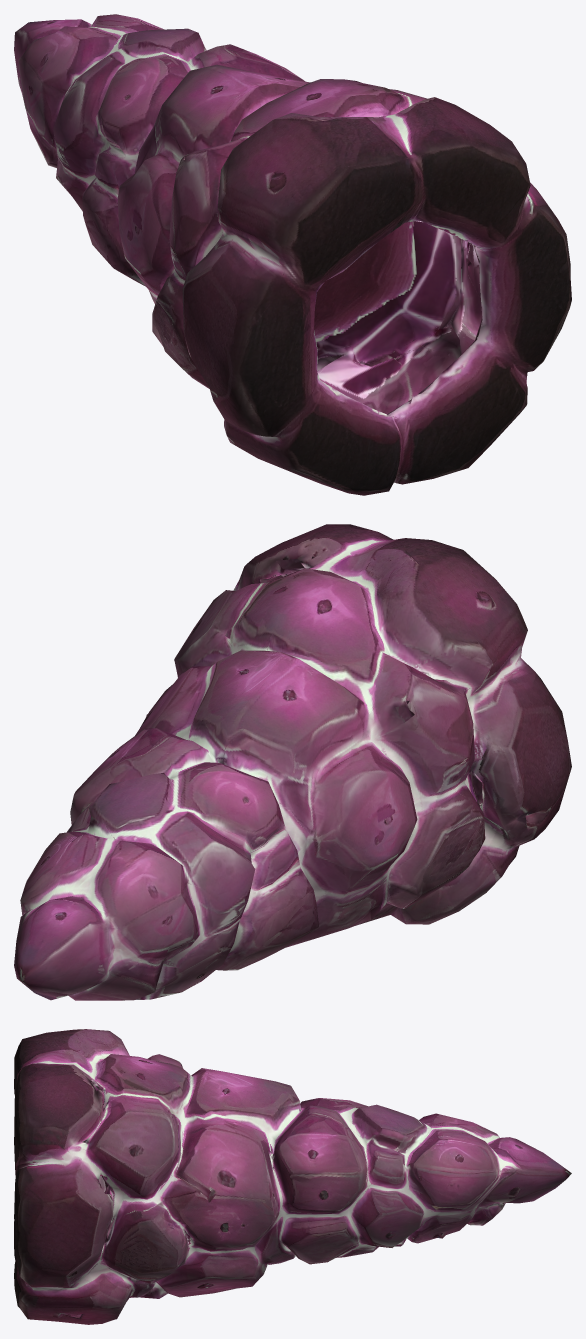
The model's file is Purple Crystal 2.fbx.
The picture shows the model from 3 angles, top to bottom: view 1: azimuth 30°, elevation 25°; view 2: azimuth 150°, elevation 25°; view 3: azimuth 270°, elevation 25°; orthographic projection. The views are drawn at different scales.
Visible parts, largest first — view 1: texture_mapping; view 2: texture_mapping; view 3: texture_mapping.
Part boxes in pixels (x1,y1,x2,y2): texture_mapping: (14, 14, 571, 495); texture_mapping: (14, 524, 571, 1000); texture_mapping: (14, 1029, 571, 1324).
Bounding box in the file's own units: 2.99 × 3.04 × 5.92.
1 material, 1 textured.
